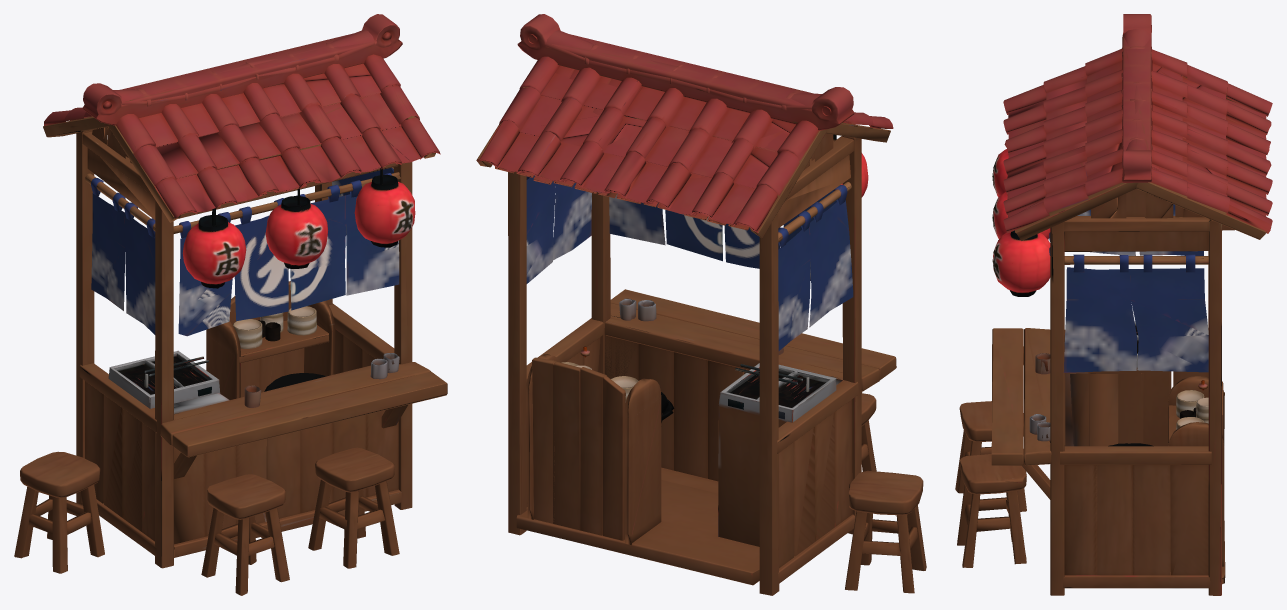
The model's file is food_stall.glb.
The picture shows the model from 3 angles, left to right: view 1: azimuth 30°, elevation 25°; view 2: azimuth 150°, elevation 25°; view 3: azimuth 270°, elevation 25°; orthographic projection. The views are drawn at different scales.
Parts seen in each view (by area): view 1: geometry_0; view 2: geometry_0; view 3: geometry_0.
Part boxes in pixels (bbox=[...]): geometry_0: bbox=[14, 14, 447, 595]; geometry_0: bbox=[476, 14, 926, 595]; geometry_0: bbox=[955, 14, 1272, 595].
Bounding box in the file's own units: 0.8271 × 0.9531 × 0.6084.
Materials: 1 (1 with a texture image).
